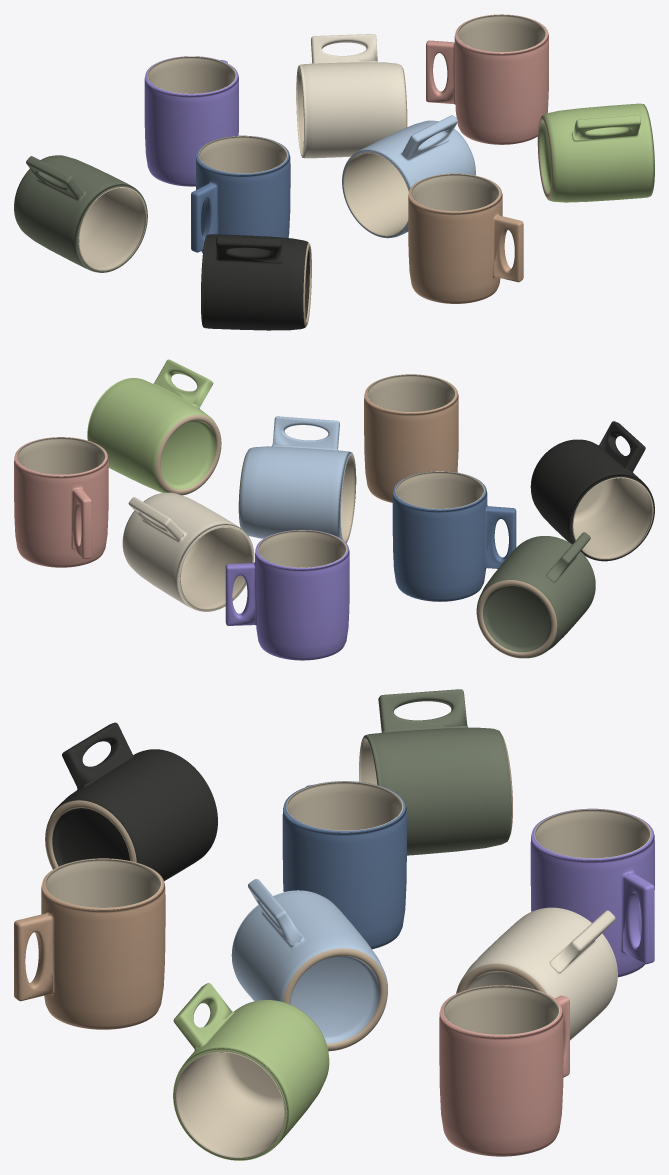
The picture shows the model from 3 angles, top to bottom: view 1: azimuth 30°, elevation 25°; view 2: azimuth 150°, elevation 25°; view 3: azimuth 270°, elevation 25°; orthographic projection. The views are drawn at different scales.
Visible parts, largest first — view 1: m_rose, m_clay, m_moss, m_ecru, m_sage, m_char, m_lav, m_slate, m_mist; view 2: m_lav, m_slate, m_sage, m_char, m_rose, m_mist, m_ecru, m_moss, m_clay; view 3: m_clay, m_rose, m_sage, m_moss, m_char, m_mist, m_slate, m_lav, m_ecru.
Boxes of the visible parts, bbox=[...] form: m_rose: bbox=[426, 14, 548, 144]; m_clay: bbox=[408, 173, 523, 303]; m_moss: bbox=[14, 155, 147, 272]; m_ecru: bbox=[296, 34, 407, 158]; m_sage: bbox=[537, 103, 654, 202]; m_char: bbox=[201, 234, 311, 330]; m_lav: bbox=[144, 56, 238, 186]; m_slate: bbox=[191, 135, 290, 253]; m_mist: bbox=[342, 115, 475, 238]; m_lav: bbox=[225, 530, 349, 660]; m_slate: bbox=[392, 471, 516, 601]; m_sage: bbox=[87, 359, 221, 495]; m_char: bbox=[530, 421, 654, 561]; m_rose: bbox=[14, 437, 108, 567]; m_mist: bbox=[238, 416, 356, 542]; m_ecru: bbox=[122, 492, 254, 611]; m_moss: bbox=[476, 532, 595, 658]; m_clay: bbox=[364, 374, 458, 502]; m_clay: bbox=[14, 858, 165, 1029]; m_rose: bbox=[439, 985, 569, 1156]; m_sage: bbox=[173, 983, 329, 1160]; m_moss: bbox=[359, 689, 512, 855]; m_char: bbox=[45, 722, 217, 880]; m_mist: bbox=[231, 879, 387, 1051]; m_slate: bbox=[282, 781, 406, 949]; m_lav: bbox=[530, 808, 654, 977]; m_ecru: bbox=[456, 907, 617, 1040].
Size of the model in its own units: 0.5603 by 0.1032 by 0.4321.
